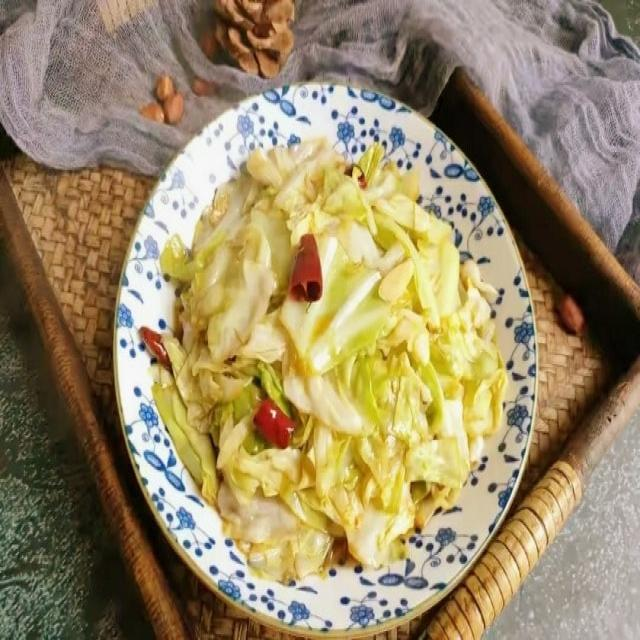bap cai xao: (140, 134, 509, 582)
